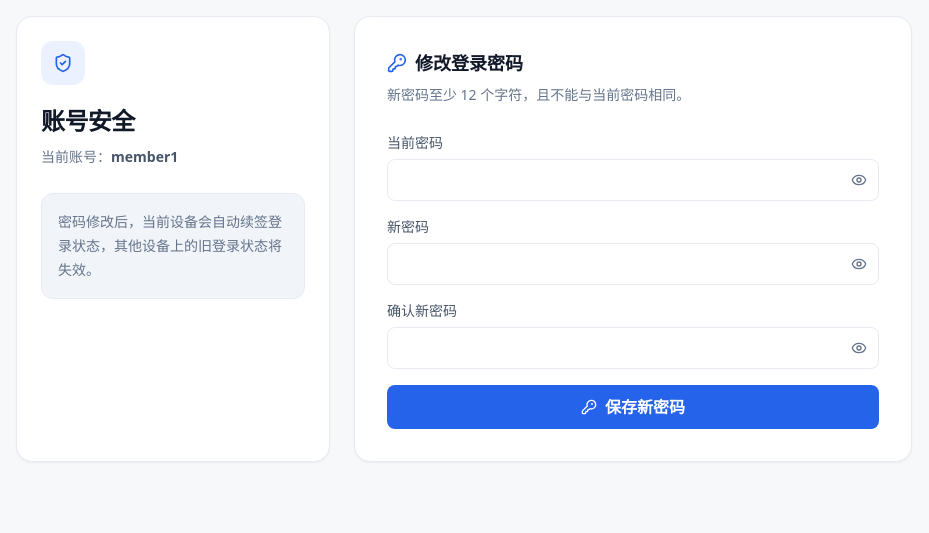
it: AccountSecurityPage › explains a missing backend route instead of showing HTTP 404
In the password field labelled "当前密码": (633, 180) x1=387 y1=159 x2=879 y2=201, type "current-password"
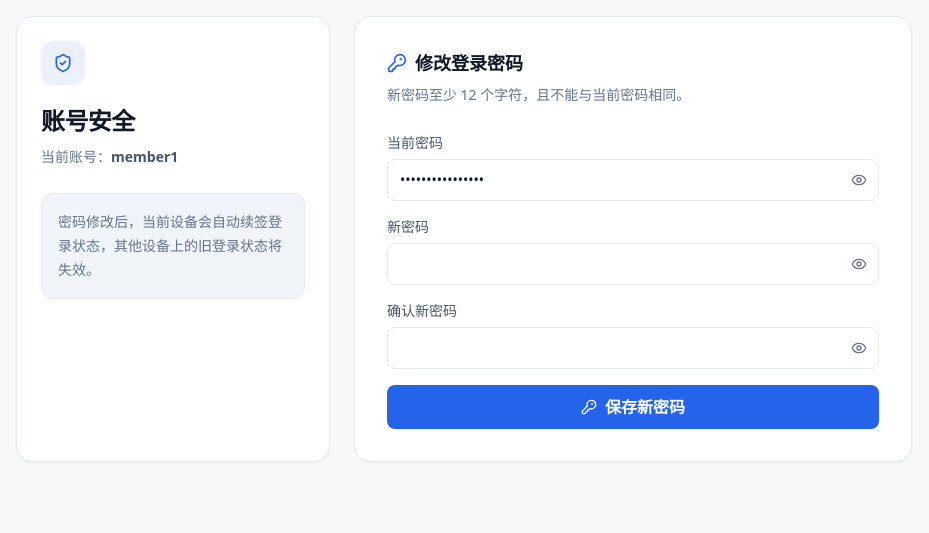
In the password field labelled "新密码": (633, 264) x1=387 y1=243 x2=879 y2=285, type "new-password-123"
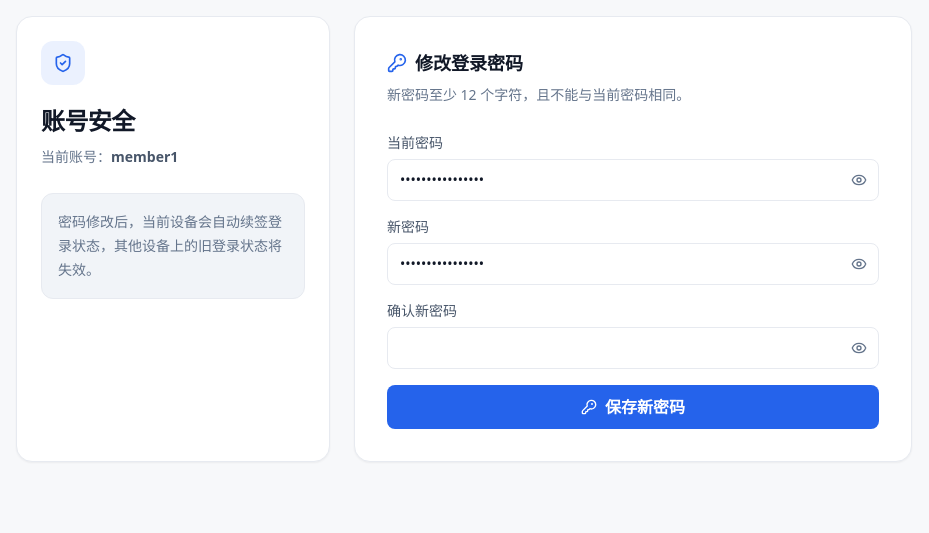
In the password field labelled "确认新密码": (633, 348) x1=387 y1=327 x2=879 y2=369, type "new-password-123"
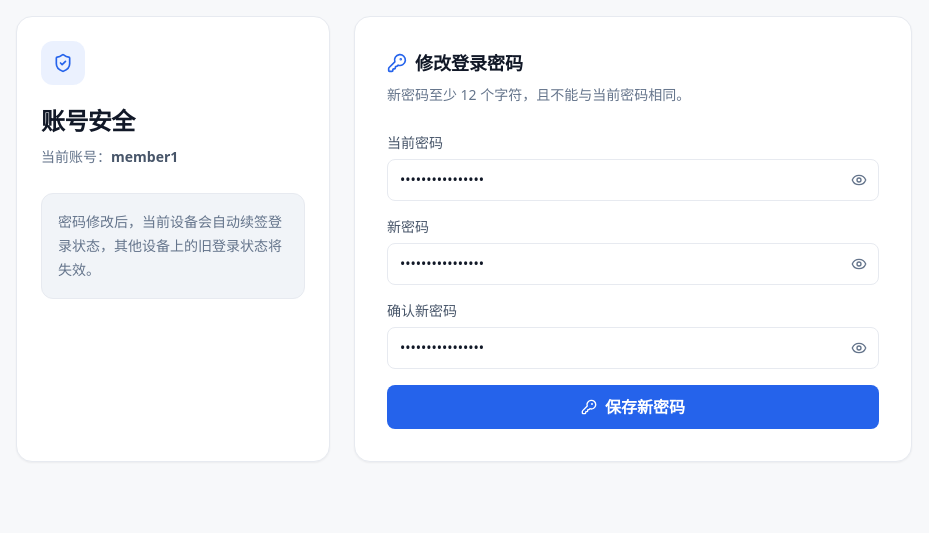
Click the button "保存新密码": (633, 407) x1=387 y1=385 x2=879 y2=429
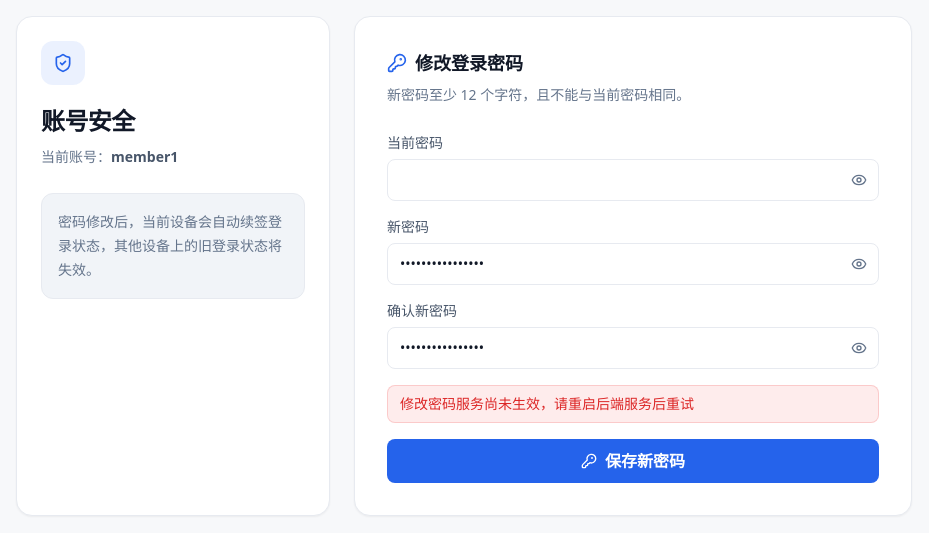
Check: the message reads "修改密码服务尚未生效，请重启后端服务后重试", box x1=400 y1=394 x2=694 y2=413
